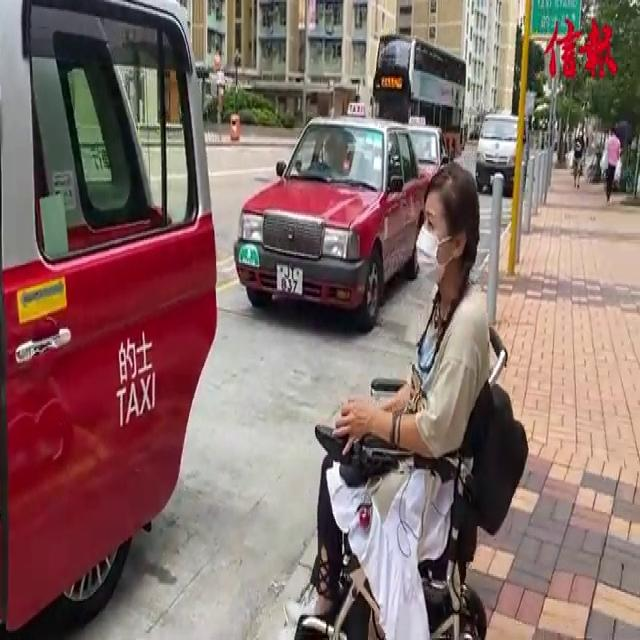wheelchairs: (287, 305, 534, 640)
